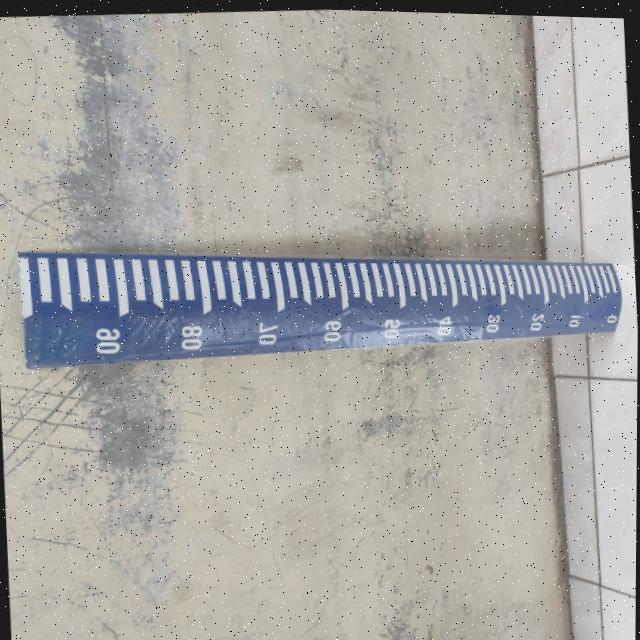water-meter: (4, 208, 638, 400)
